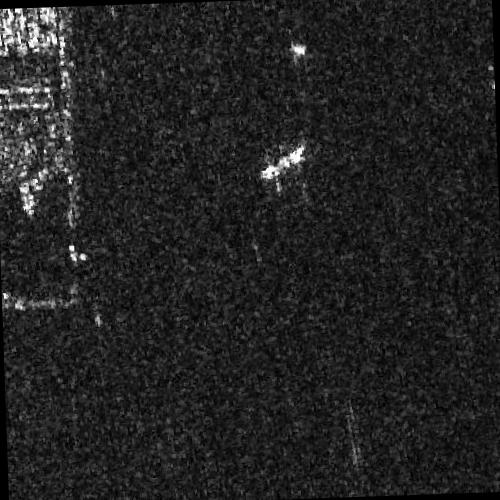ship: (259, 142, 305, 179), (288, 41, 307, 57)
